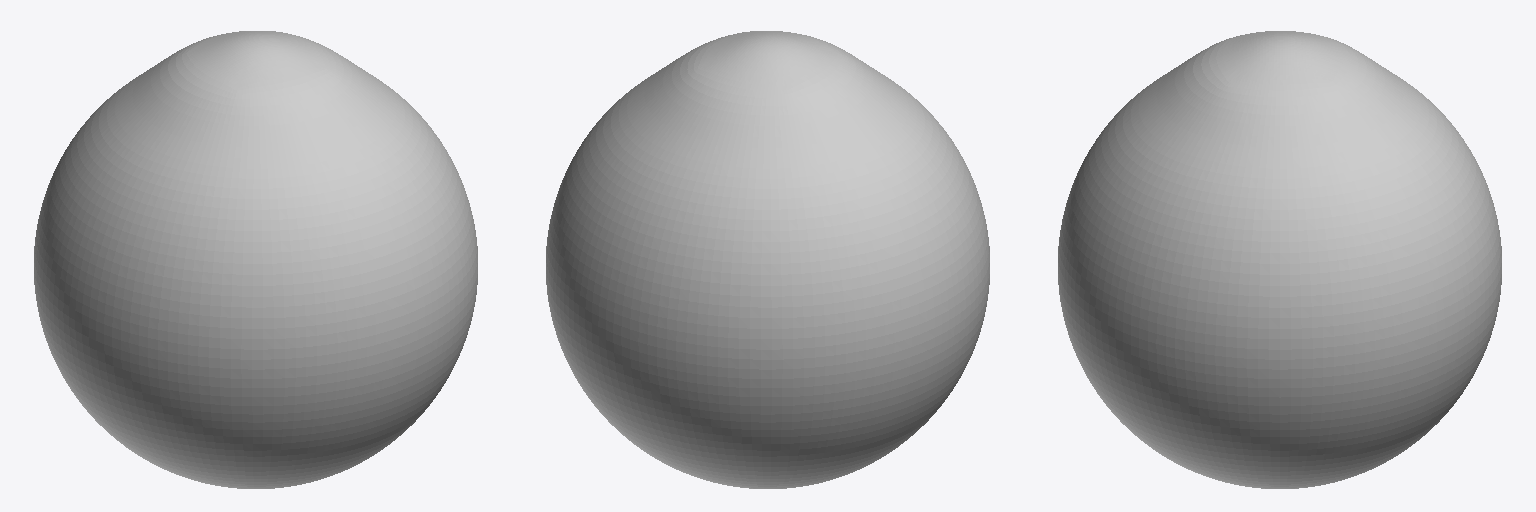
File: eye.obj
3 views of the same model, side by side, from view 1: azimuth 30°, elevation 25°; view 2: azimuth 150°, elevation 25°; view 3: azimuth 270°, elevation 25° (orthographic).
Parts seen in each view (by area): view 1: eye_Sphere; view 2: eye_Sphere; view 3: eye_Sphere.
Part boxes in pixels (left/top/right/bottom): eye_Sphere: left=34, top=31, right=477, bottom=488; eye_Sphere: left=546, top=31, right=989, bottom=488; eye_Sphere: left=1058, top=31, right=1501, bottom=488.
Size of the model in its own units: 0.0197 by 0.0209 by 0.0197.